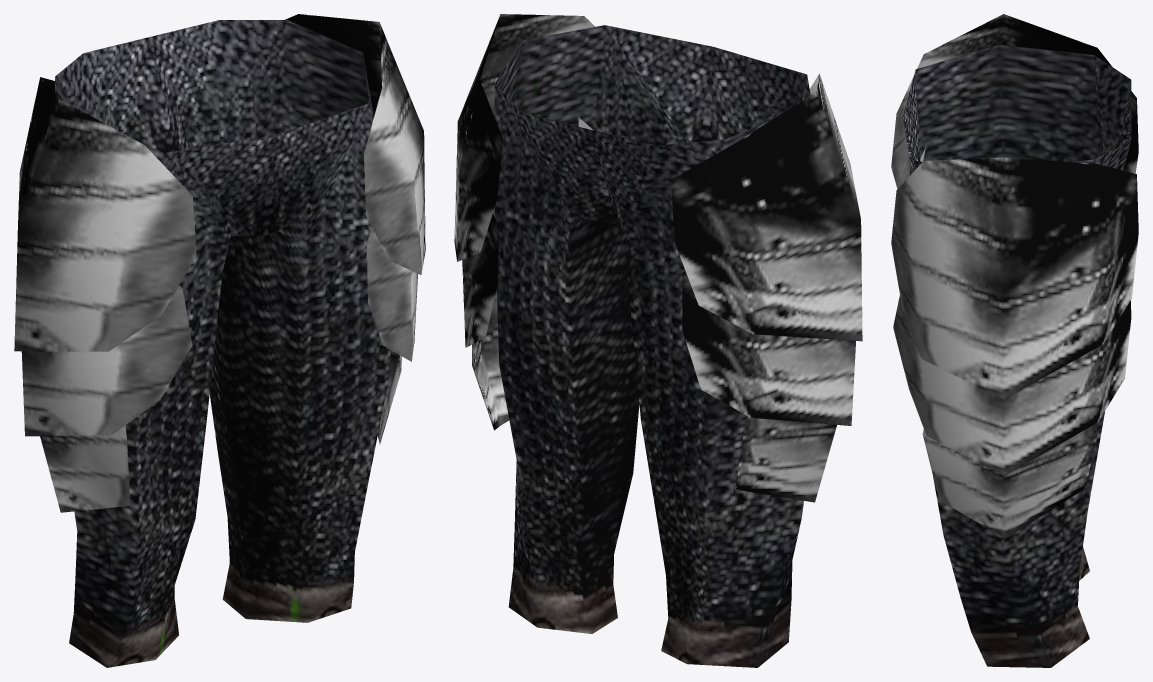
The model's file is Plate Armor Pants.fbx.
3 views of the same model, side by side, from view 1: azimuth 30°, elevation 25°; view 2: azimuth 150°, elevation 25°; view 3: azimuth 270°, elevation 25° (orthographic). The views are drawn at different scales.
Visible parts, largest first — view 1: Plate Pants; view 2: Plate Pants; view 3: Plate Pants.
Boxes of the visible parts, x1,y1,x2,y2 form: Plate Pants: (14,14,425,667); Plate Pants: (454,14,862,667); Plate Pants: (891,14,1138,667).
Size of the model in its own units: 0.4373 by 0.5813 by 0.2474.
